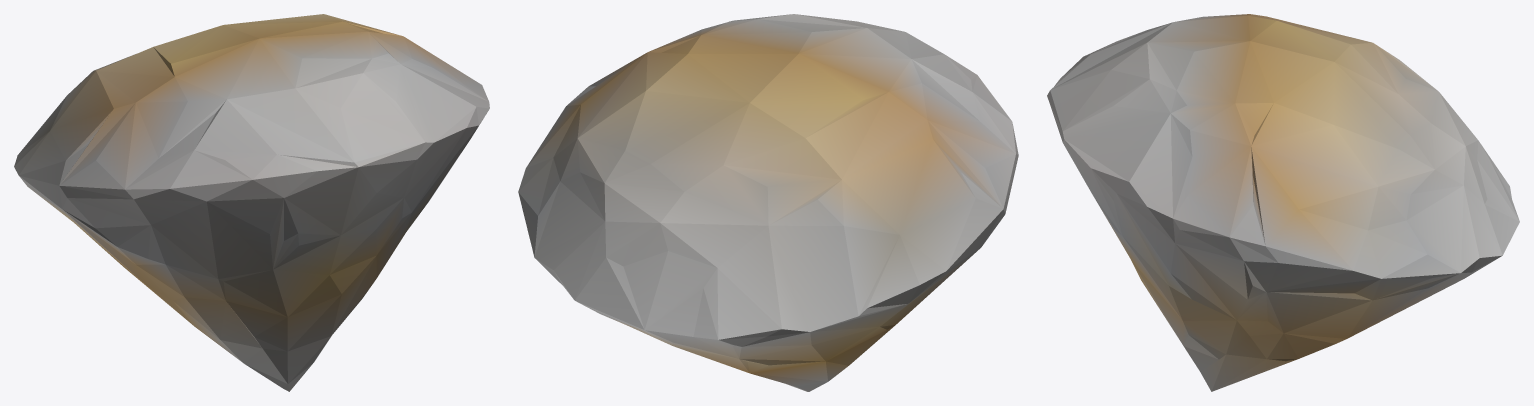
File: joia.glb
The picture shows the model from 3 angles, left to right: view 1: azimuth 30°, elevation 25°; view 2: azimuth 150°, elevation 25°; view 3: azimuth 270°, elevation 25°; orthographic projection. The views are drawn at different scales.
Parts seen in each view (by area): view 1: geometry_0; view 2: geometry_0; view 3: geometry_0.
Boxes of the visible parts, x1,y1,x2,y2 form: geometry_0: (14, 14, 489, 391); geometry_0: (518, 14, 1018, 391); geometry_0: (1047, 14, 1519, 391).
Size of the model in its own units: 1 by 0.7843 by 0.9728.
